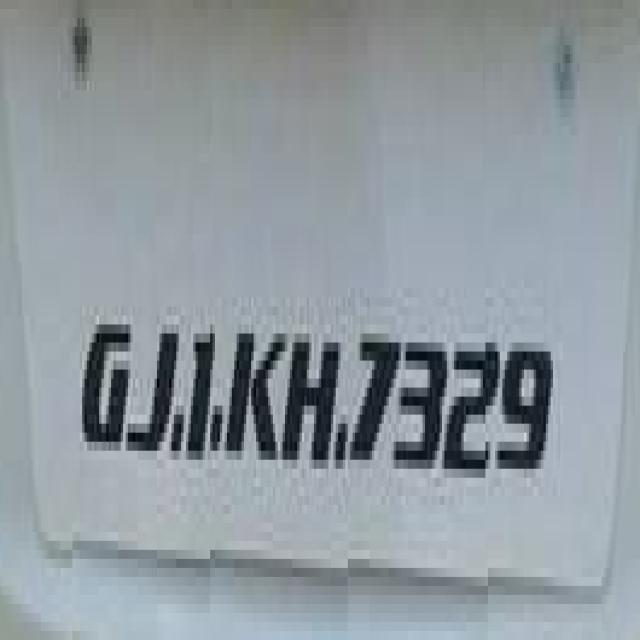license_plate: (5, 63, 611, 613)
